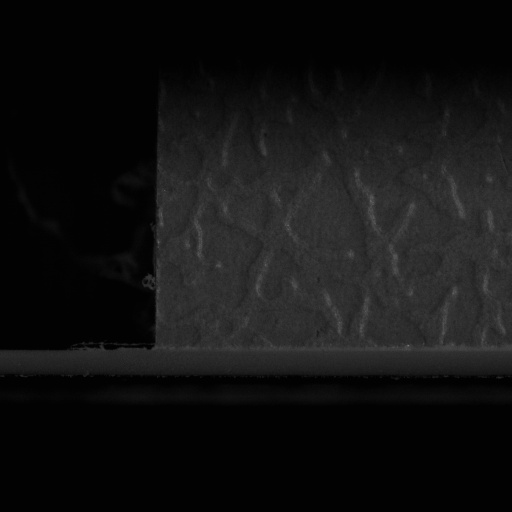changdai: (3, 346, 158, 378)
